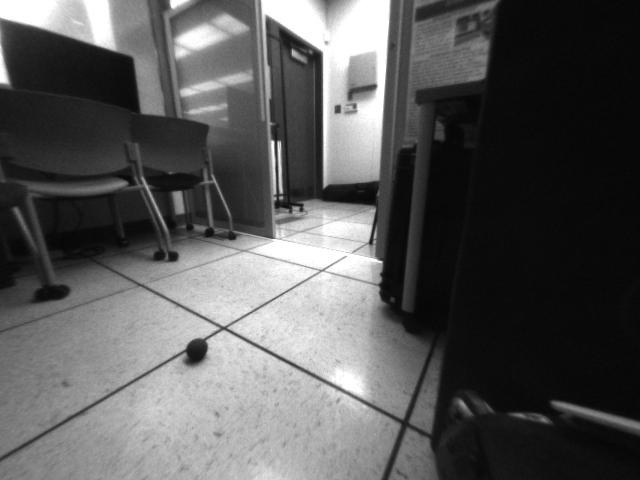dogtoy: (179, 333, 216, 370)
